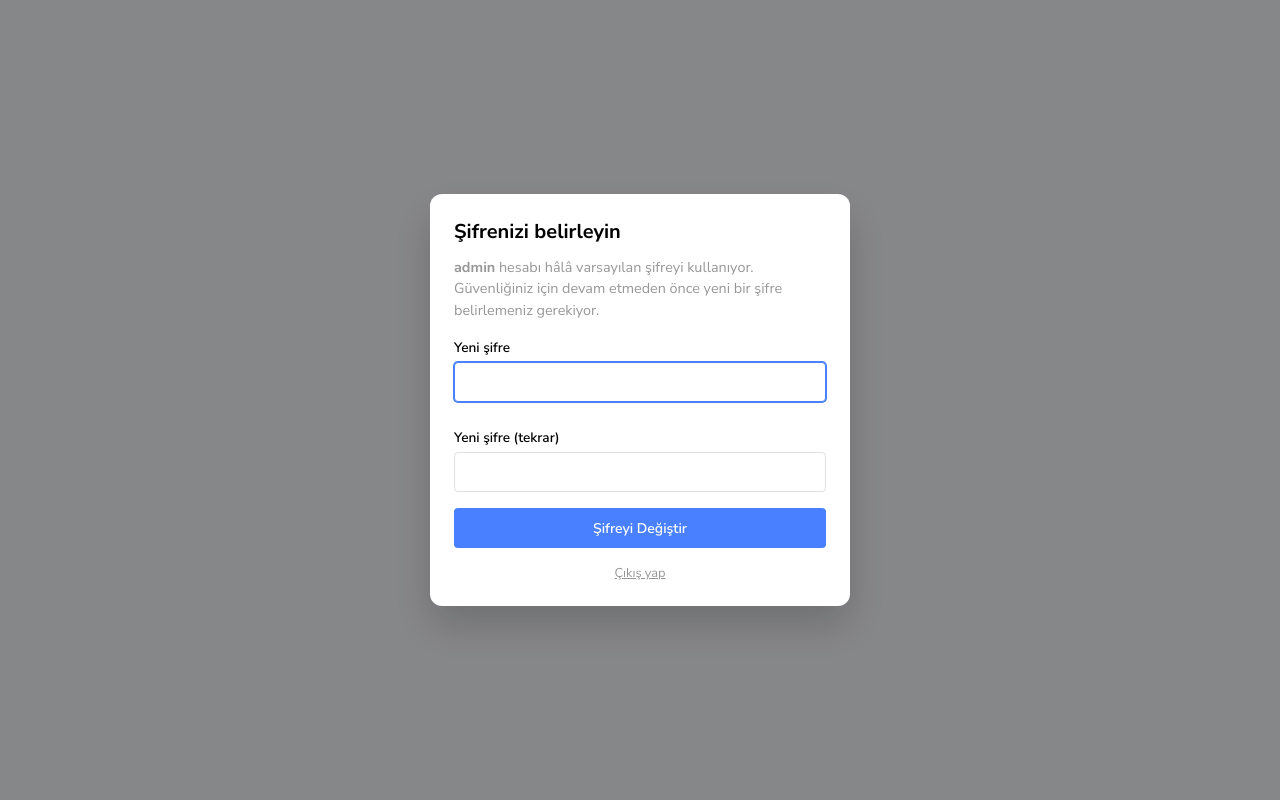
Scenario: ForcePasswordChange › şifreler eşleşmiyorsa uyarı gösterir ve gönderim engellenir
This screenshot has width=1280, height=800.
Type "Guclu-Sifre-2026" into the password field labelled "Yeni şifre" at (640, 382), box [454, 362, 826, 402]
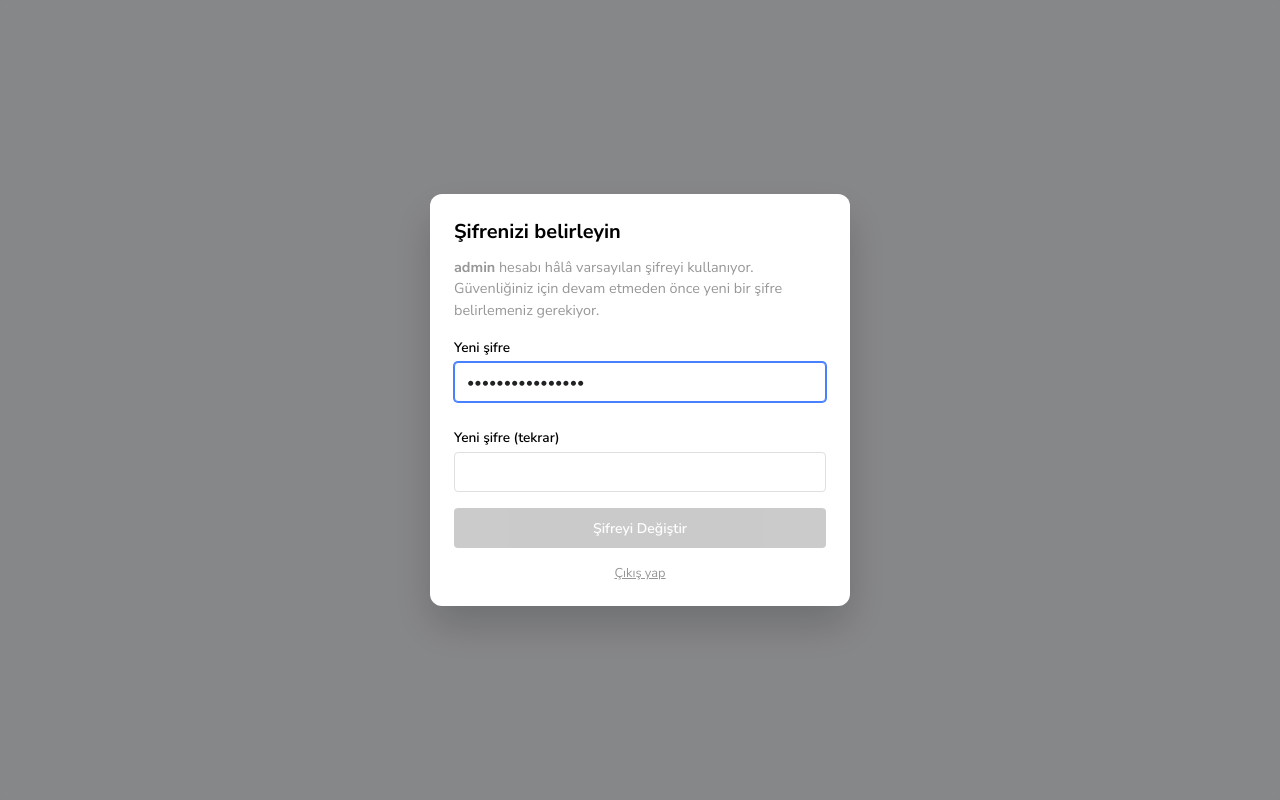
Type "Baska-Sifre-2026" into the password field labelled "Yeni şifre (tekrar)" at (640, 472), box [454, 452, 826, 492]
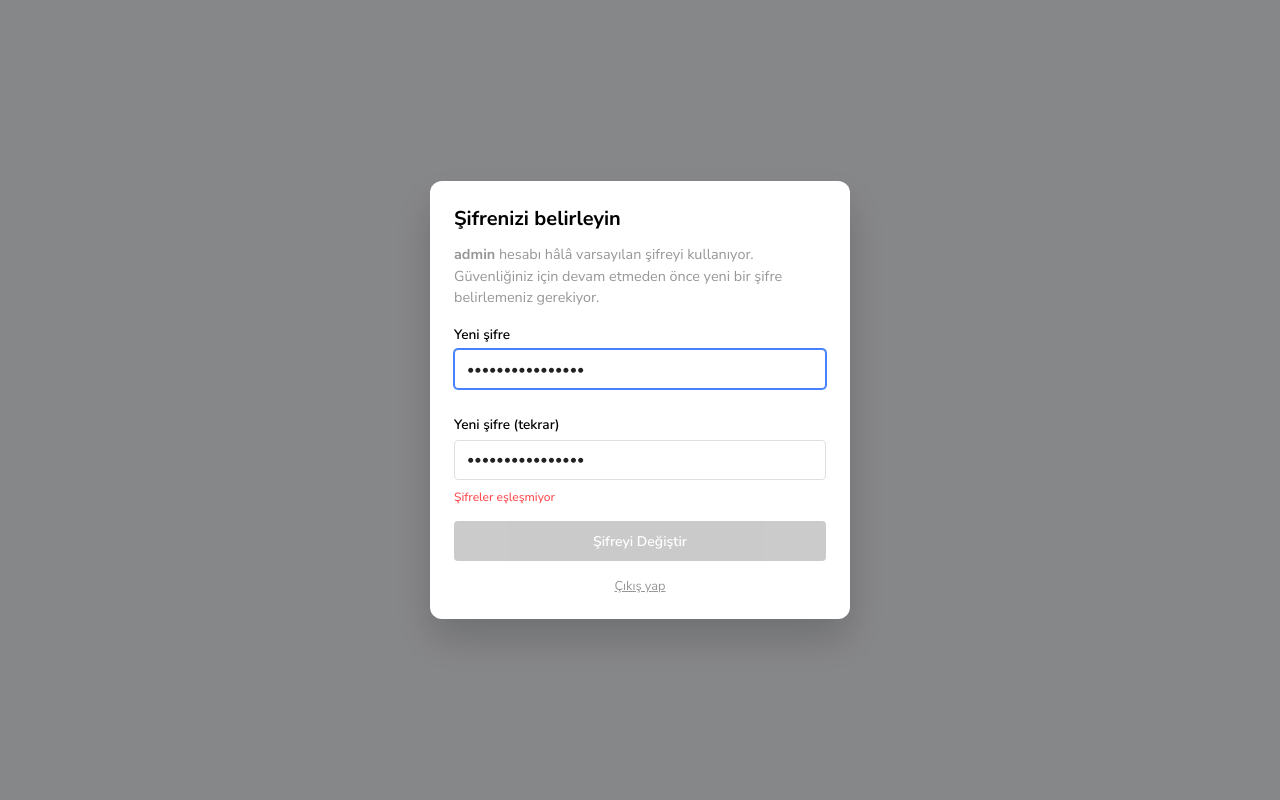
Expected: the button "Şifreyi Değiştir" is disabled, [454, 521, 826, 561]
Expected: the text "Şifreler eşleşmiyor" is shown, [454, 489, 555, 505]
